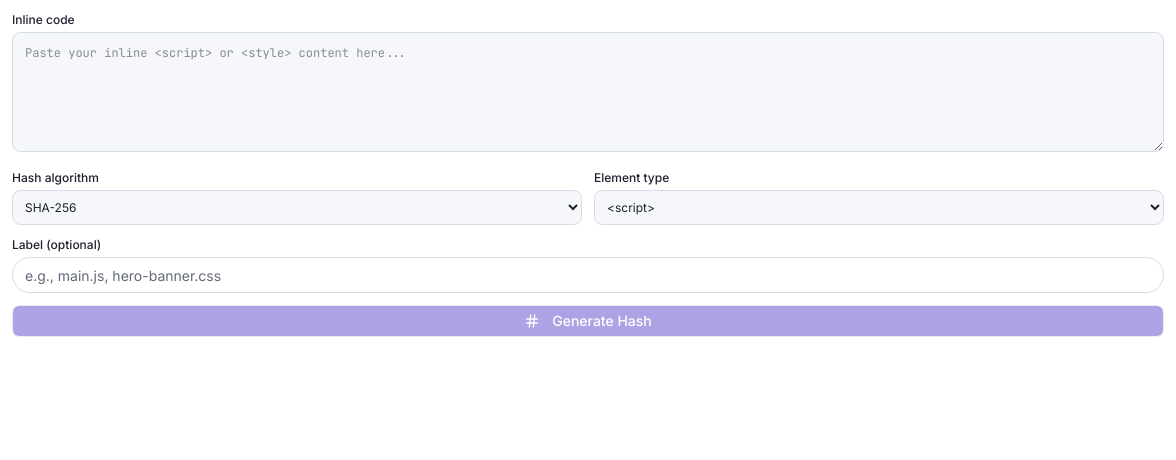
<HashGenerator /> › generates a SHA-256 hash and displays the result
This screenshot has width=1176, height=460.
In the text box with test id "hash-code-input": (588, 92) [12, 32, 1164, 152], type "console.log(\"test\");"
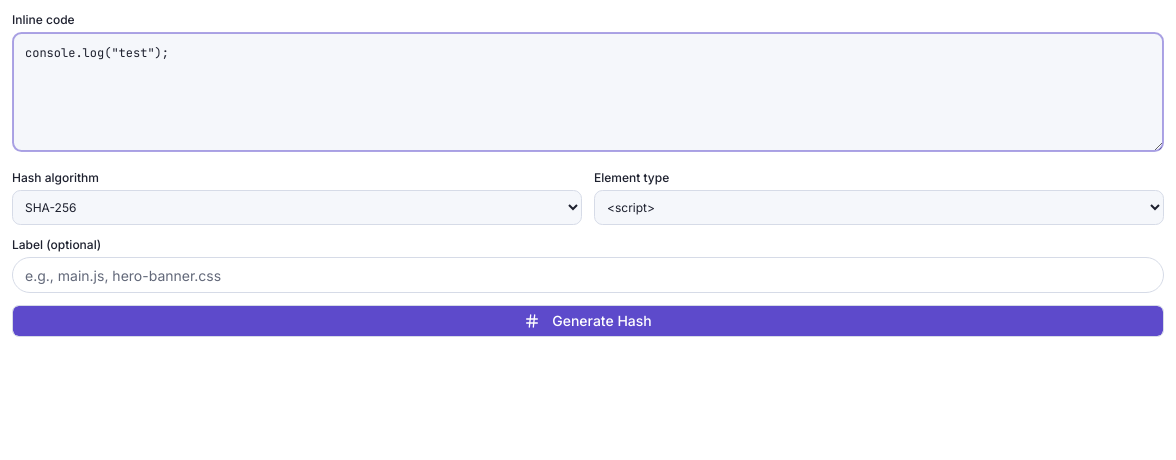
Click the button with test id "hash-generate-button": (588, 321) [12, 305, 1164, 337]
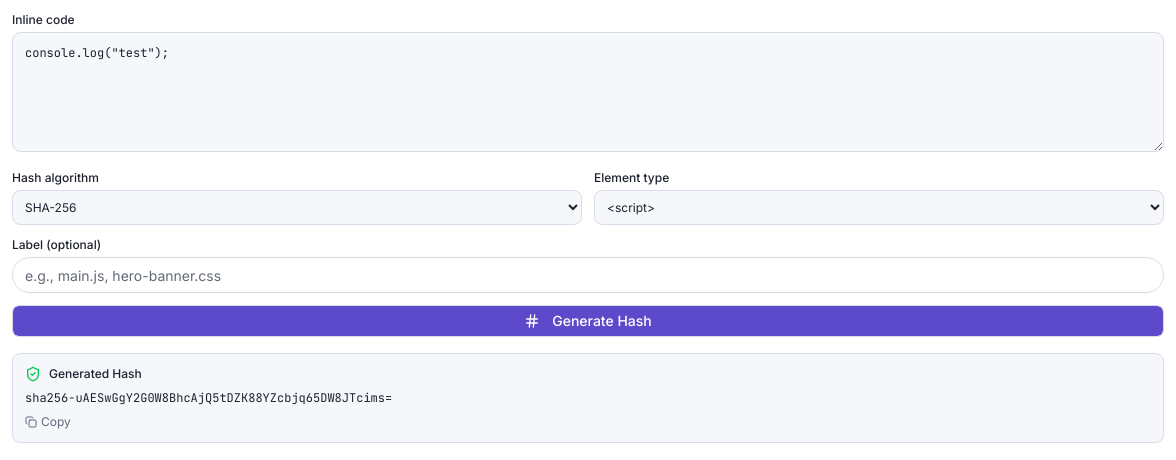
Now the element with test id "hash-result" is shown, box [12, 353, 1164, 443]
Now the element with test id "hash-result" shows "sha256-", box [25, 390, 392, 406]
